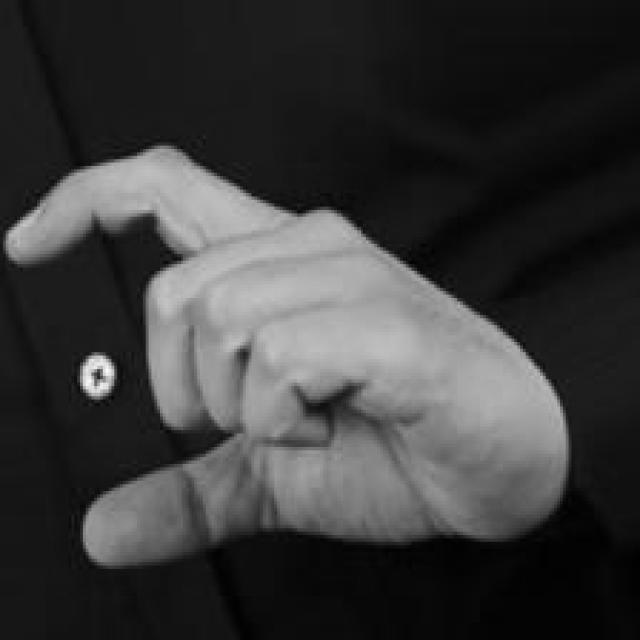C: (2, 142, 563, 571)
